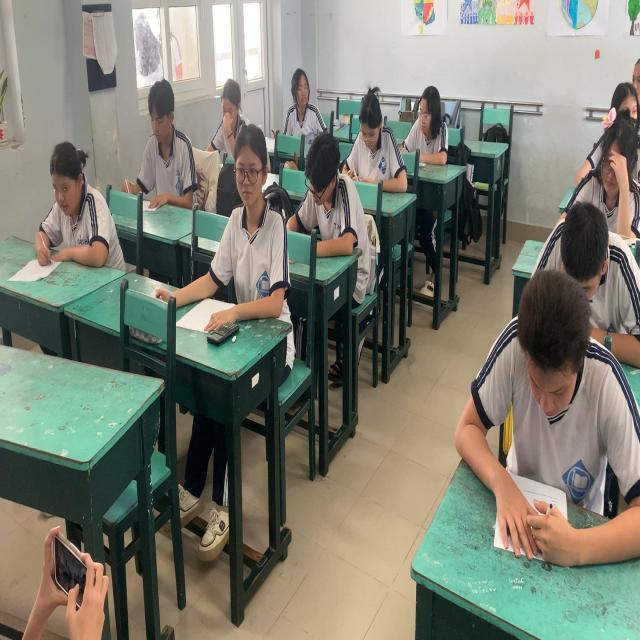not_cheating: (465, 284, 634, 520), (533, 208, 640, 354), (220, 132, 296, 326), (33, 125, 113, 278), (137, 91, 200, 229), (348, 88, 411, 194), (298, 125, 354, 236), (581, 129, 640, 226), (401, 77, 450, 167), (282, 73, 333, 139), (214, 87, 247, 143)
